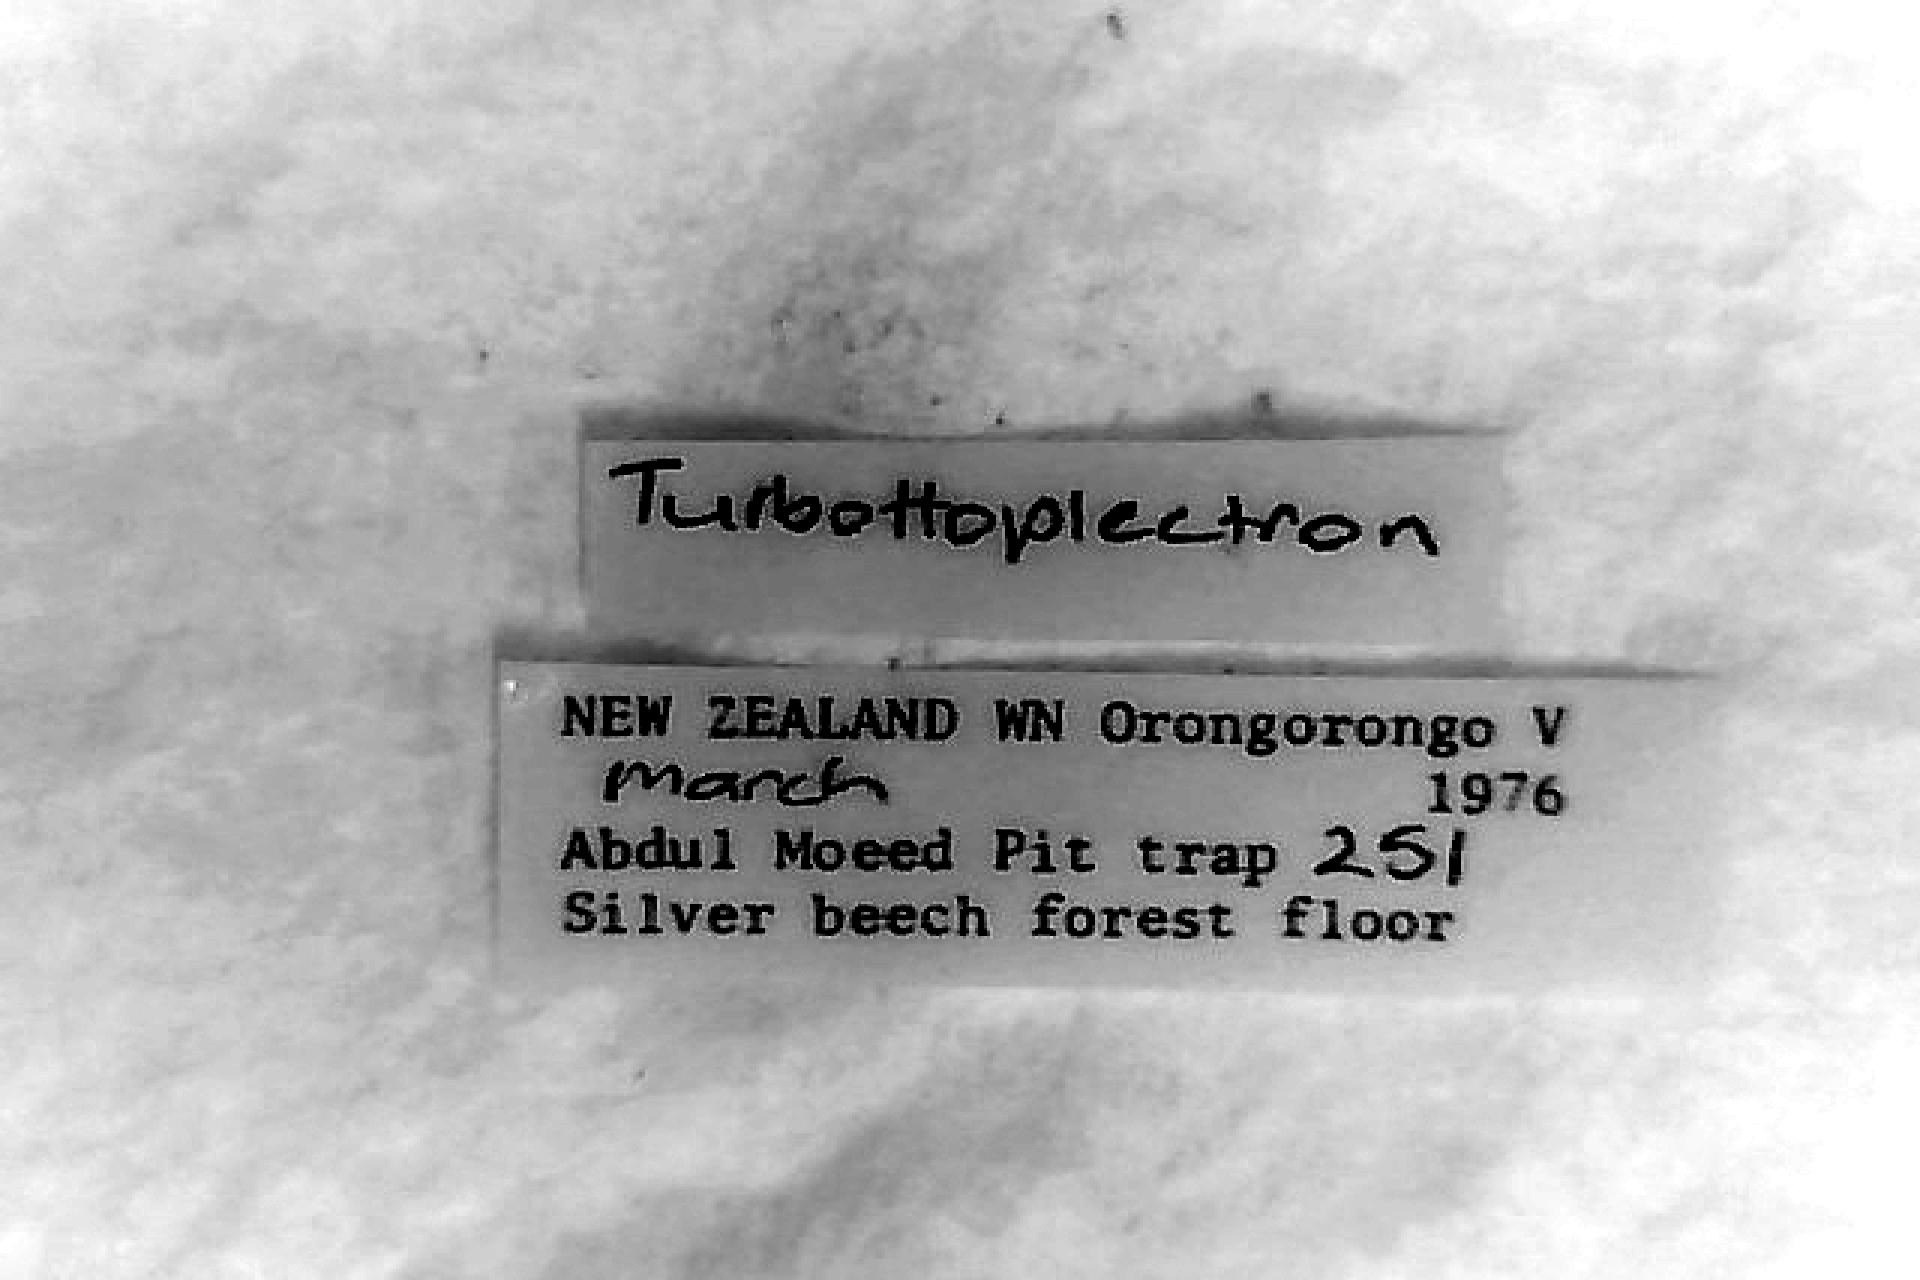hand_label: (581, 437, 1508, 652)
mixed_label: (499, 663, 1714, 985)
